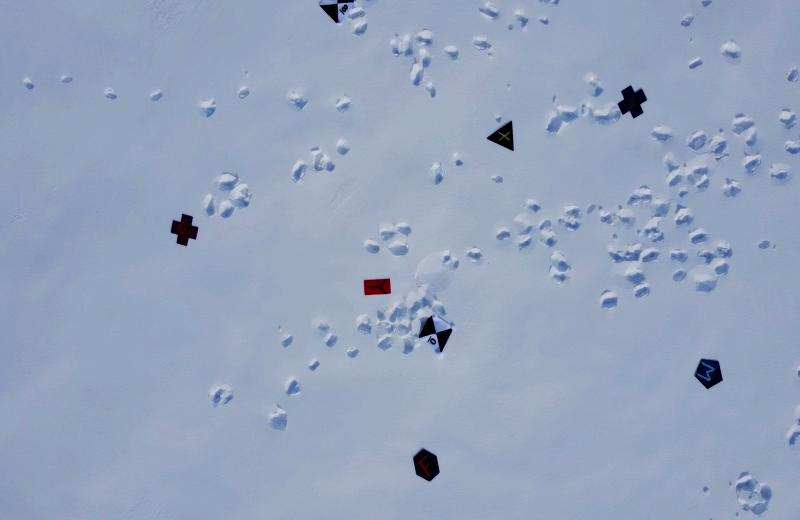Cross: (168, 209, 203, 257), (614, 81, 653, 123)
Hexagon: (410, 444, 449, 488)
Pentagon: (690, 348, 728, 395)
Rectangle: (358, 271, 395, 308)
Triangle: (483, 115, 524, 157)
